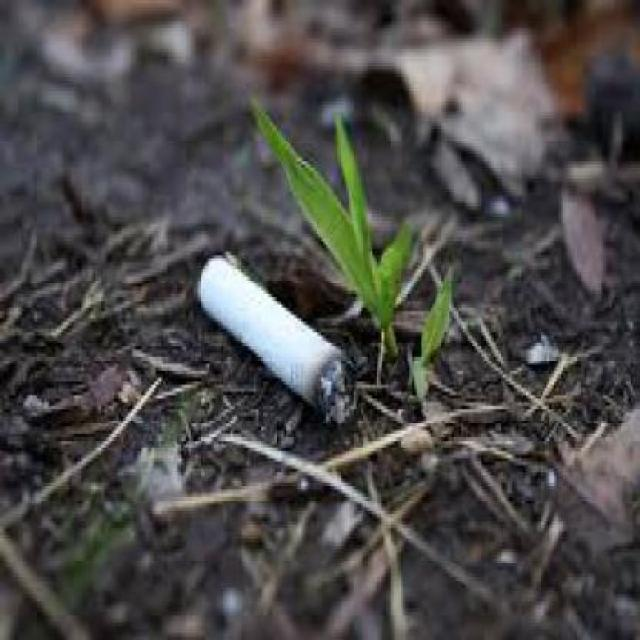cigarette: (186, 255, 352, 413)
